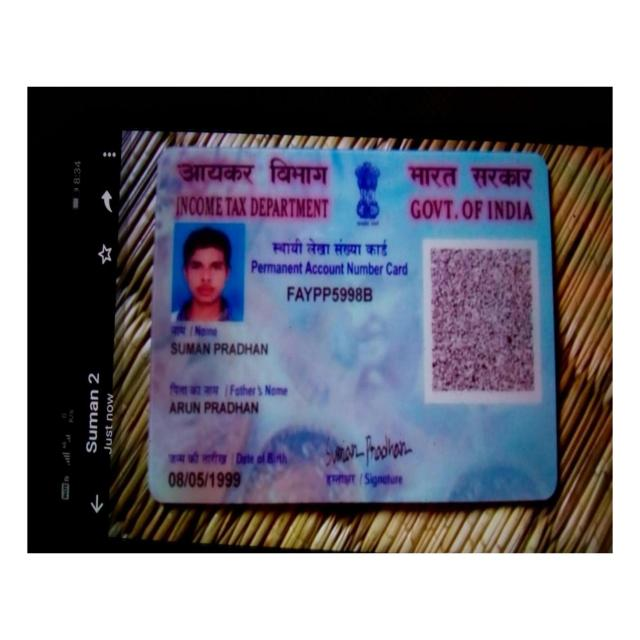pan_card: (160, 154, 544, 498)
